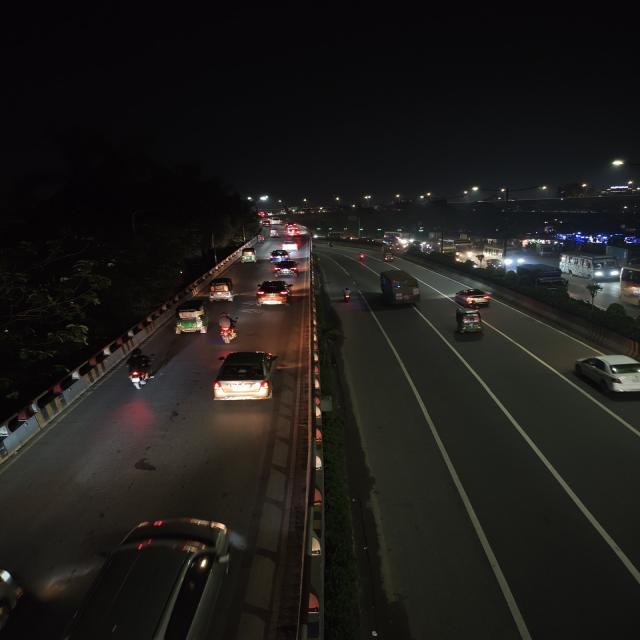bus: (558, 250, 618, 282), (377, 268, 422, 308), (484, 241, 522, 263), (619, 265, 640, 299), (450, 240, 475, 258)
car: (77, 511, 267, 640), (210, 348, 282, 407), (570, 351, 640, 402), (254, 279, 294, 307), (454, 286, 494, 308), (270, 260, 300, 278), (269, 248, 290, 261), (284, 224, 300, 237), (280, 240, 297, 250)
cng: (172, 298, 210, 336), (451, 306, 486, 336), (208, 276, 235, 300), (239, 248, 258, 264), (381, 250, 396, 264)
motorcycle: (122, 350, 158, 392), (215, 312, 243, 344), (340, 286, 355, 304), (356, 250, 368, 262)
truck: (515, 264, 570, 292), (534, 242, 558, 256)
